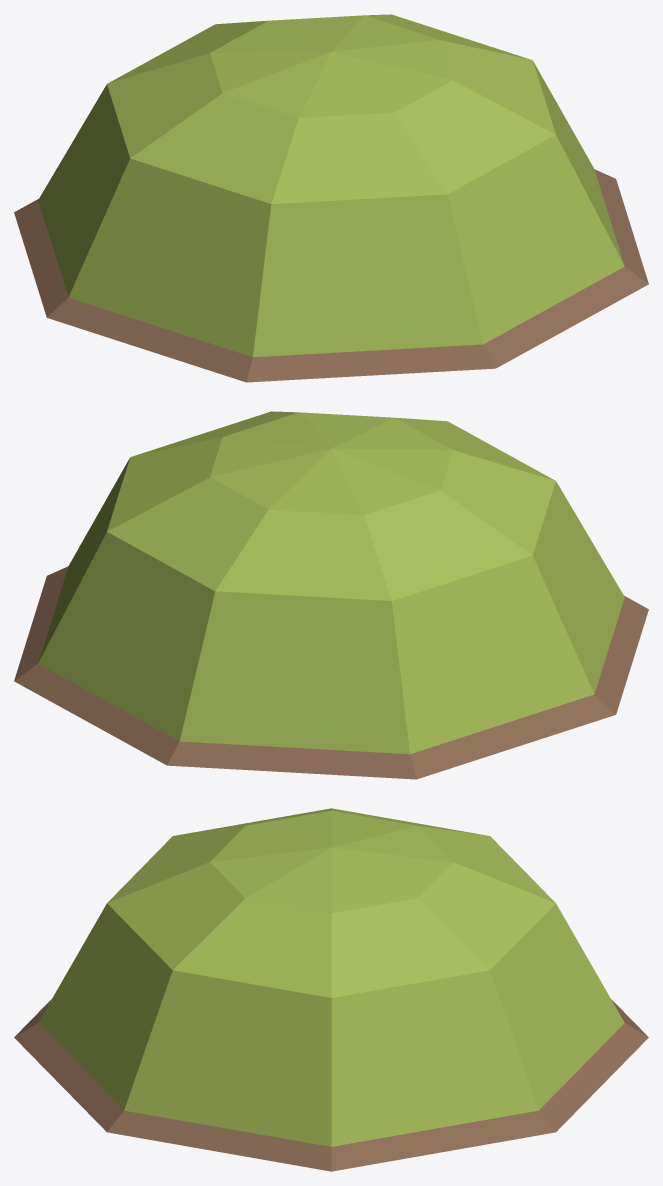
The model's file is hillGreen.fbx.
3 renders of one model, top to bottom at view 1: azimuth 30°, elevation 25°; view 2: azimuth 150°, elevation 25°; view 3: azimuth 270°, elevation 25°, orthographic. The views are drawn at different scales.
Parts seen in each view (by area): view 1: HillGreen; view 2: HillGreen; view 3: HillGreen.
Part boxes in pixels (<box>): HillGreen: <box>14,14,648,382</box>; HillGreen: <box>14,411,648,779</box>; HillGreen: <box>14,808,648,1171</box>.
Size of the model in its own units: 235 by 77.64 by 235.
3 materials, 3 textured.
